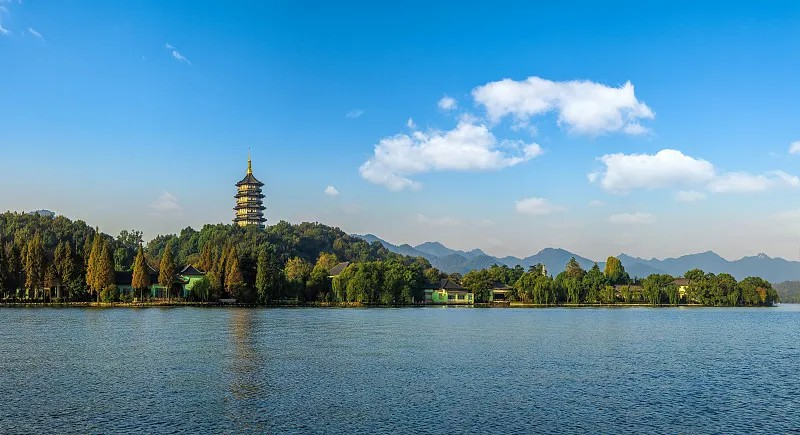Leifeng: (232, 146, 267, 229)
